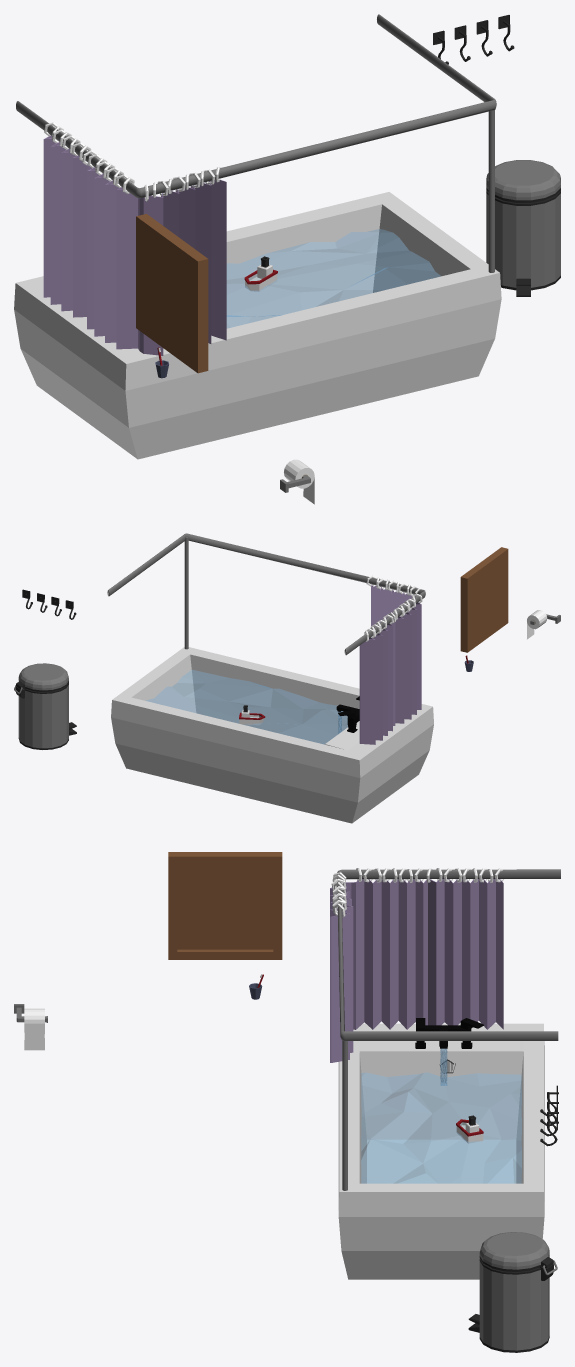
The model's file is bath room.fbx.
The picture shows the model from 3 angles, top to bottom: view 1: azimuth 30°, elevation 25°; view 2: azimuth 150°, elevation 25°; view 3: azimuth 270°, elevation 25°; orthographic projection. The views are drawn at different scales.
Visible parts, largest first — view 1: Object_92, Object_113, Object_224, Object_52, Object_172, Object_46, Object_134, Object_107, Object_110, Object_235, Object_214, Object_162; view 2: Object_92, Object_113, Object_172, Object_46, Object_224, Object_52, Object_107, Object_134, Object_110, Object_235, Object_214, Object_146; view 3: Object_92, Object_113, Object_224, Object_52, Object_46, Object_172, Object_107, Object_134, Object_214, Object_110, Object_146.
Part boxes in pixels (<box>): Object_92: <box>14,192,501,459</box>; Object_113: <box>226,229,440,328</box>; Object_224: <box>136,214,208,373</box>; Object_52: <box>82,150,143,353</box>; Object_172: <box>486,160,560,296</box>; Object_46: <box>43,122,91,317</box>; Object_134: <box>143,167,226,355</box>; Object_107: <box>16,14,496,198</box>; Object_110: <box>488,110,494,272</box>; Object_235: <box>433,15,514,64</box>; Object_214: <box>280,459,314,504</box>; Object_162: <box>244,256,277,291</box>; Object_92: <box>111,647,433,823</box>; Object_113: <box>146,670,347,744</box>; Object_172: <box>14,663,76,749</box>; Object_46: <box>359,614,394,744</box>; Object_224: <box>460,547,508,652</box>; Object_52: <box>388,593,422,725</box>; Object_107: <box>107,533,425,655</box>; Object_134: <box>366,576,423,627</box>; Object_110: <box>184,537,188,649</box>; Object_235: <box>22,589,76,619</box>; Object_214: <box>527,610,560,639</box>; Object_146: <box>336,696,359,732</box>; Object_92: <box>338,1023,544,1279</box>; Object_113: <box>361,1048,521,1183</box>; Object_224: <box>168,852,282,959</box>; Object_52: <box>345,868,432,1029</box>; Object_46: <box>428,868,504,1029</box>; Object_172: <box>468,1232,557,1352</box>; Object_107: <box>337,869,560,1040</box>; Object_134: <box>330,872,353,1062</box>; Object_214: <box>14,1004,47,1050</box>; Object_110: <box>342,1040,347,1190</box>; Object_146: <box>415,1018,483,1048</box>.
Size of the model in its own units: 290 by 141 by 272.
